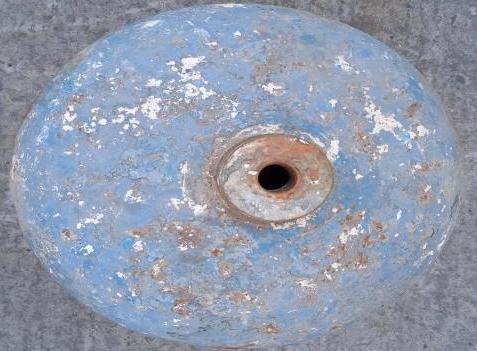cylinder: (1, 0, 477, 351)
